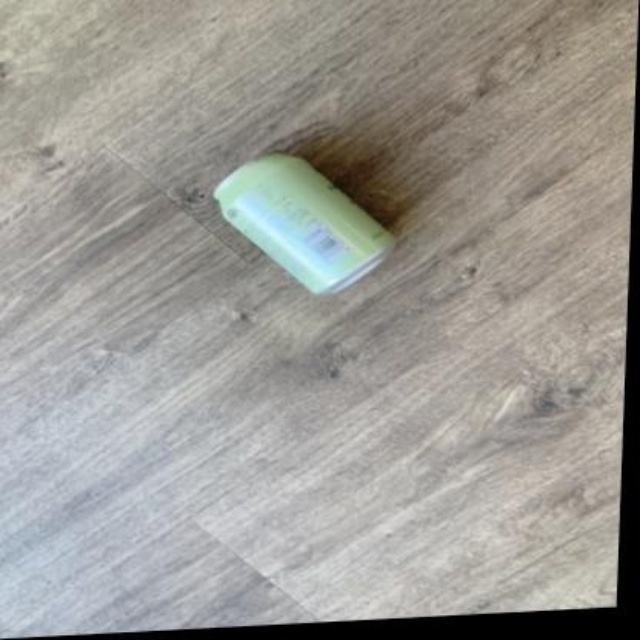trash: (214, 154, 392, 292)
